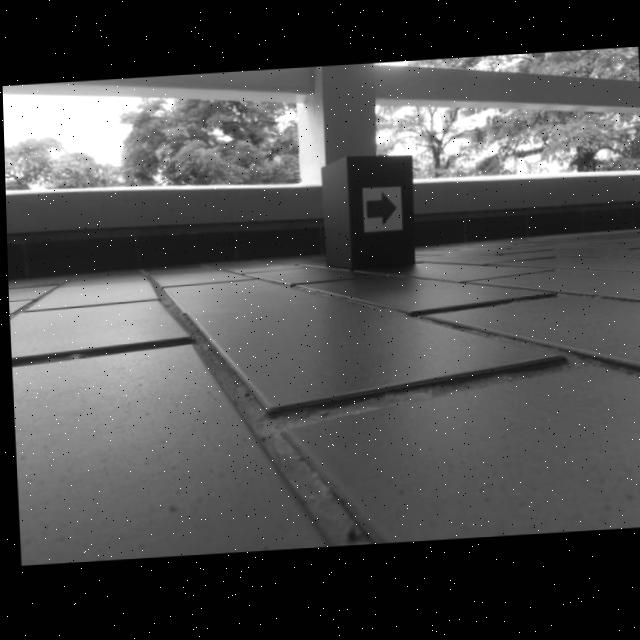RIGHT: (364, 194, 396, 231)
